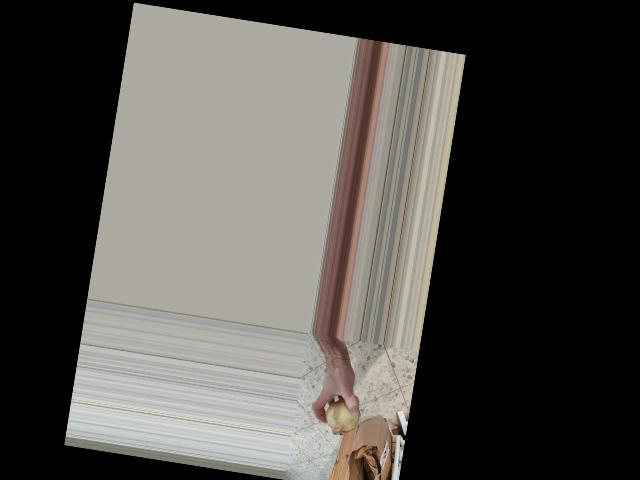onion: (318, 387, 366, 439)
